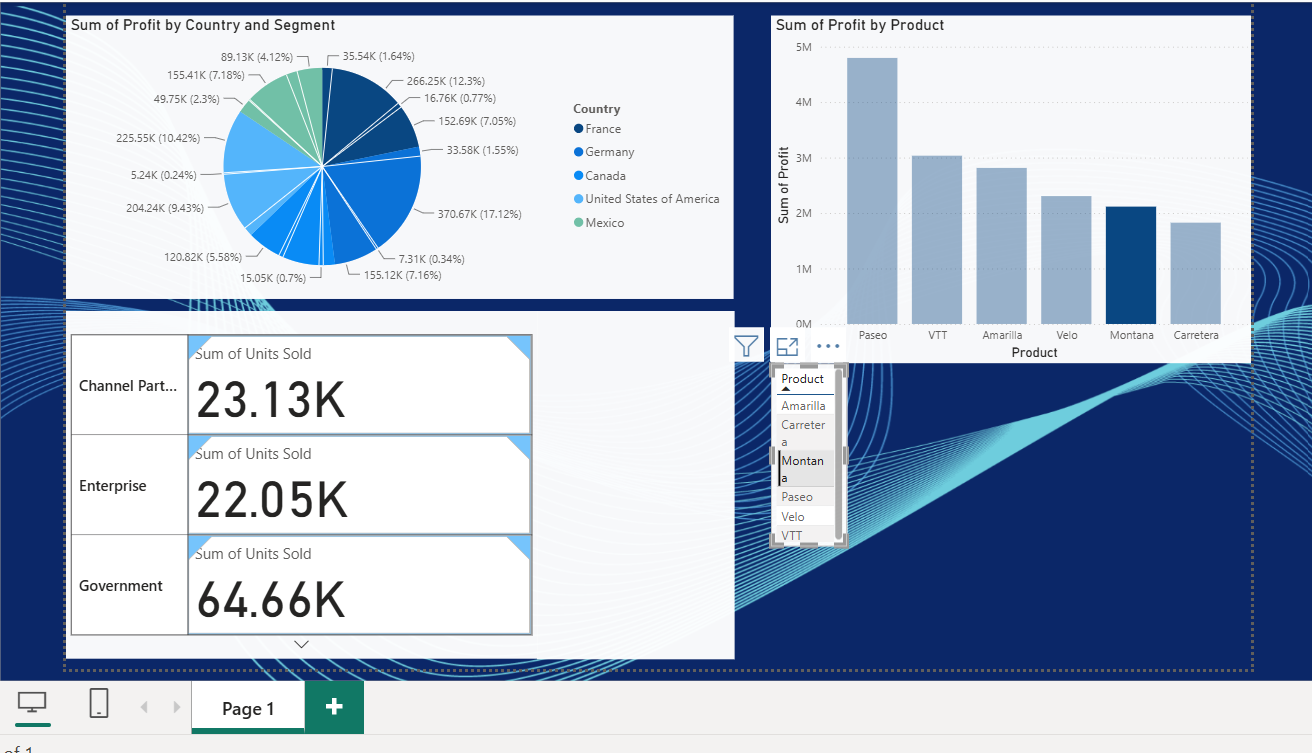

The dashboard page shown, as its layout file describes it:
{"tool":"powerbi","page":{"name":"Page 1","canvas":[1280,720],"ordinal":0},"visuals":[{"type":"pieChart","fields":{"Category":["financials.Country"],"Y":["Sum(financials.Profit)"],"Series":["financials.Segment"]},"box":[0,14.6,720.6,306],"z":0},{"type":"cardVisual","fields":{"Rows":["financials.Segment"],"Data":["Sum(financials.Units Sold)"]},"box":[0,333.6,508.4,375.7],"z":1000},{"type":"columnChart","fields":{"Category":["financials.Product"],"Y":["Sum(financials.Profit)"]},"box":[761,14.6,519.8,375.7],"z":2000},{"type":"FlowVisual_C29F1DCC_81F5_4973_94AD_0517D44CC06A","box":[508,334,213,376],"z":3000},{"type":"tableEx","fields":{"Values":["financials.Product"]},"box":[761,390.2,82.6,197.5],"z":4000}]}

Visuals, with their boxes on the page's 1280x720 design canvas (x1, y1, x2, y2). These are canvas units, not pixel positions in the 1312x753 screenshot, which may show the page scaled, cropped or inside an application window:
pieChart - financials.Country x Sum(financials.Profit): bbox=[0, 15, 721, 321]
cardVisual - financials.Segment x Sum(financials.Units Sold): bbox=[0, 334, 508, 709]
columnChart - financials.Product x Sum(financials.Profit): bbox=[761, 15, 1281, 390]
FlowVisual_C29F1DCC_81F5_4973_94AD_0517D44CC06A: bbox=[508, 334, 721, 710]
tableEx - financials.Product: bbox=[761, 390, 844, 588]
